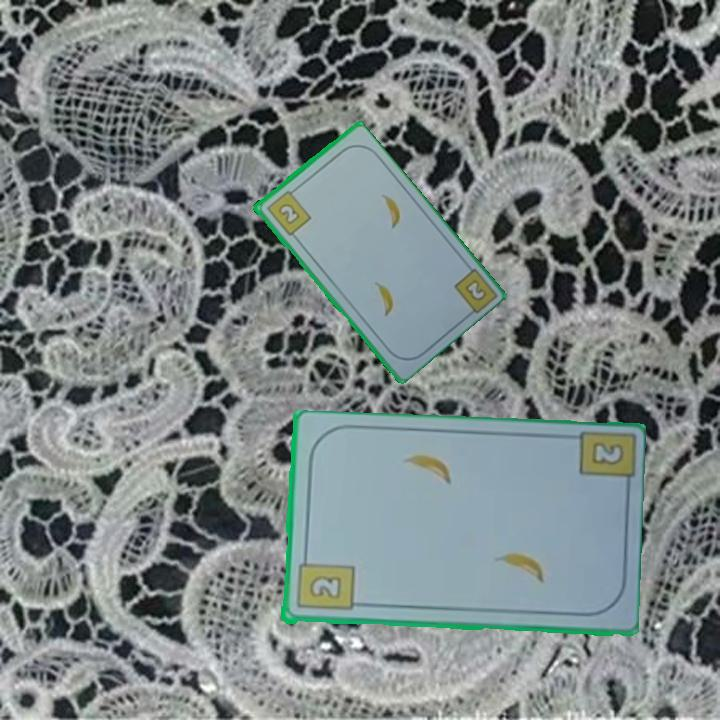2b: (293, 551, 356, 614), (263, 185, 313, 238), (588, 439, 627, 468), (461, 276, 490, 304)
